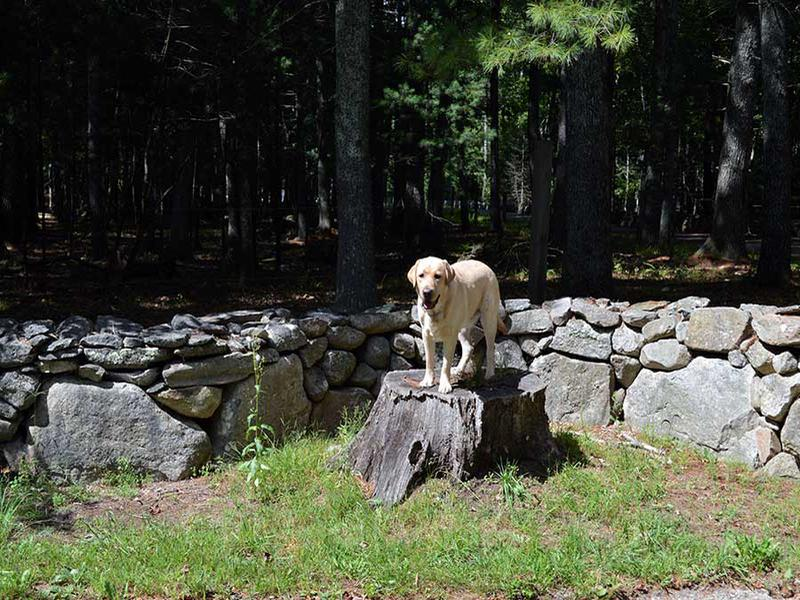dog_stand: (399, 251, 510, 396)
